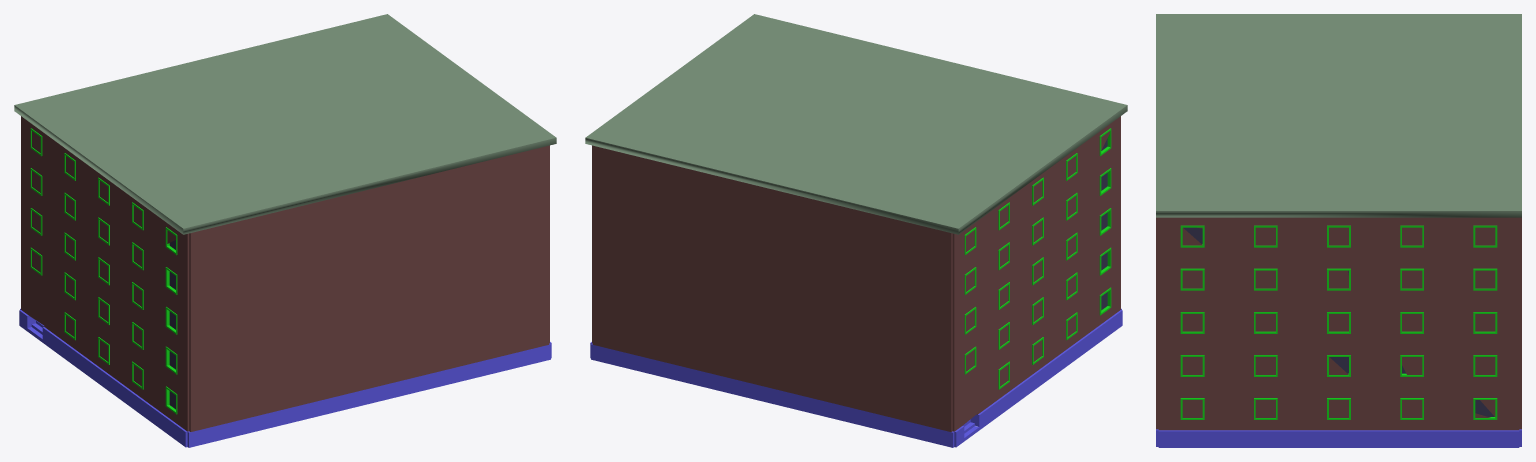
The picture shows the model from 3 angles, left to right: view 1: azimuth 30°, elevation 25°; view 2: azimuth 150°, elevation 25°; view 3: azimuth 270°, elevation 25°; orthographic projection. The views are drawn at different scales.
Visible parts, largest first — view 1: BR20_F05_03; view 2: BR20_F05_03; view 3: BR20_F05_03.
Part boxes in pixels (x1,y1,x2,y2): BR20_F05_03: (14,14,556,447); BR20_F05_03: (585,14,1127,447); BR20_F05_03: (1156,14,1521,447).
Size of the model in its own units: 2550 by 1440 by 2000.
